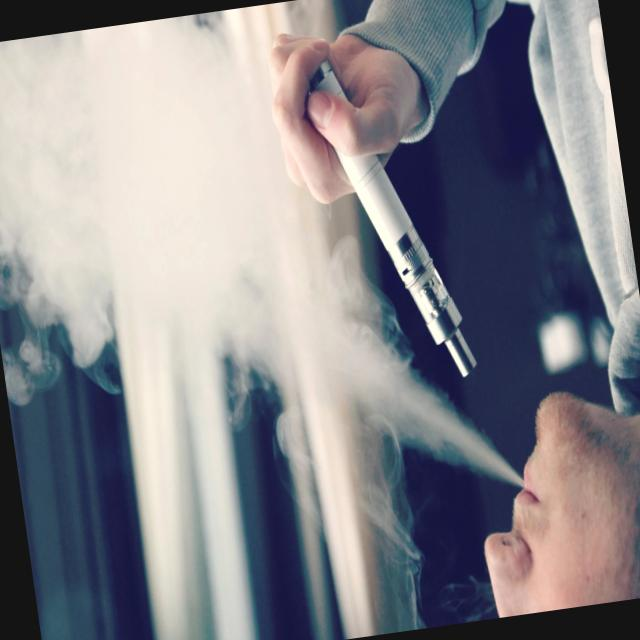cigarette: (300, 42, 487, 399)
